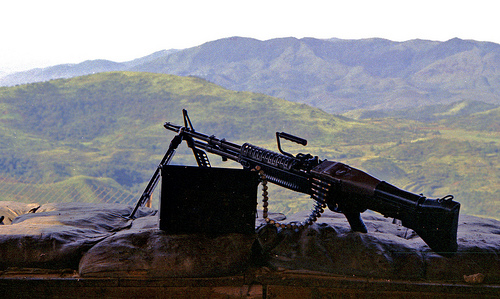rifle: (134, 90, 459, 275)
